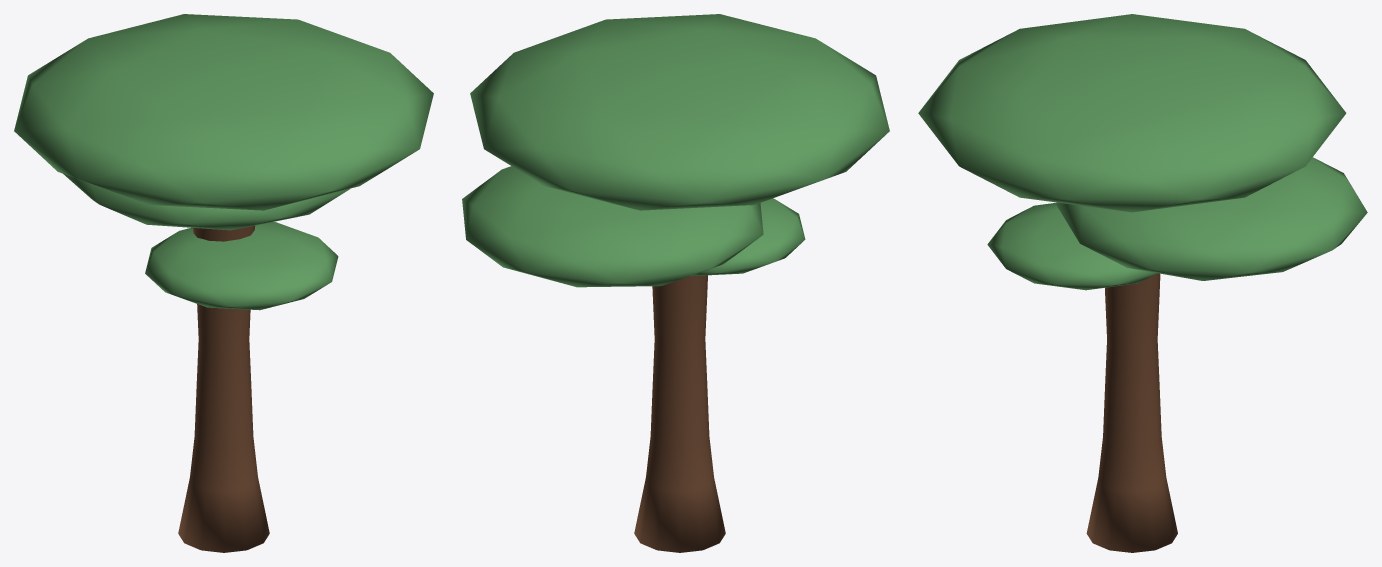
The model's file is Tree.fbx.
3 views of the same model, side by side, from view 1: azimuth 30°, elevation 25°; view 2: azimuth 150°, elevation 25°; view 3: azimuth 270°, elevation 25° (orthographic).
Parts seen in each view (by area): view 1: Tree; view 2: Tree; view 3: Tree.
Boxes of the visible parts, bbox=[...] form: Tree: bbox=[14, 14, 433, 552]; Tree: bbox=[462, 14, 889, 552]; Tree: bbox=[918, 14, 1367, 552].
Size of the model in its own units: 313 by 392 by 346.
